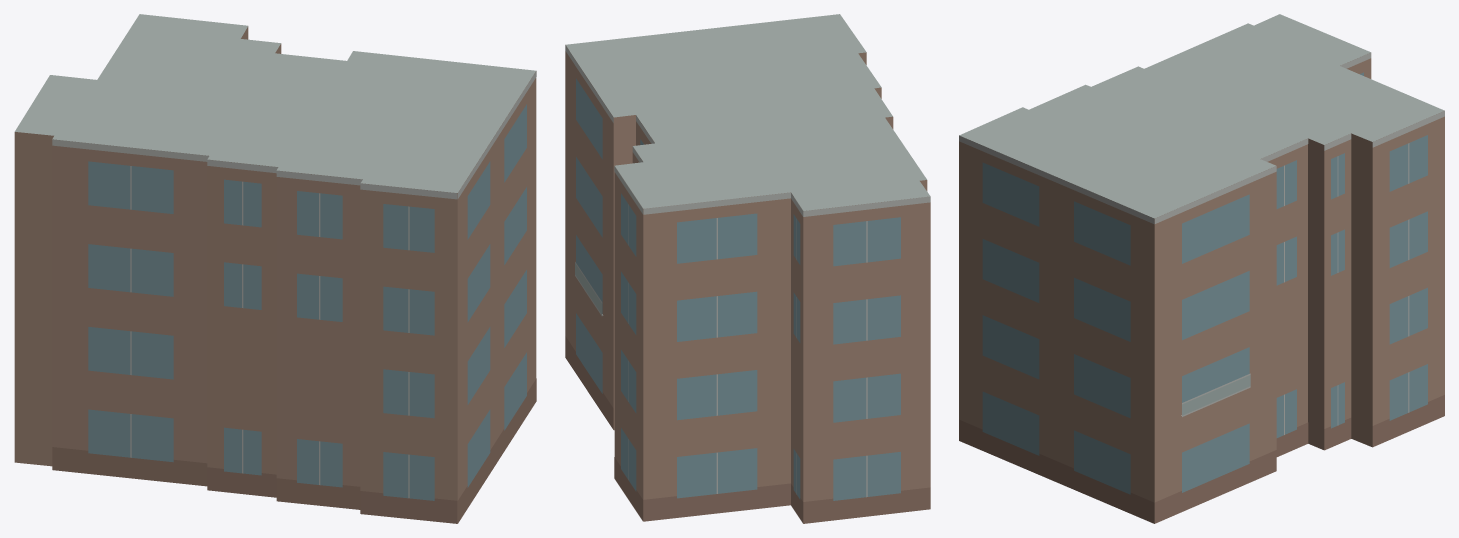
Rendered from survey-upis-32658668.glb.
The picture shows the model from 3 angles, left to right: view 1: azimuth 30°, elevation 25°; view 2: azimuth 150°, elevation 25°; view 3: azimuth 270°, elevation 25°; orthographic projection. The views are drawn at different scales.
Parts seen in each view (by area): view 1: survey-upis-32658668.tmp; view 2: survey-upis-32658668.tmp; view 3: survey-upis-32658668.tmp.
Boxes of the visible parts, x1,y1,x2,y2 form: survey-upis-32658668.tmp: [14, 14, 536, 523]; survey-upis-32658668.tmp: [565, 14, 930, 523]; survey-upis-32658668.tmp: [959, 14, 1444, 523].
Size of the model in its own units: 18.34 by 12.76 by 18.4.
